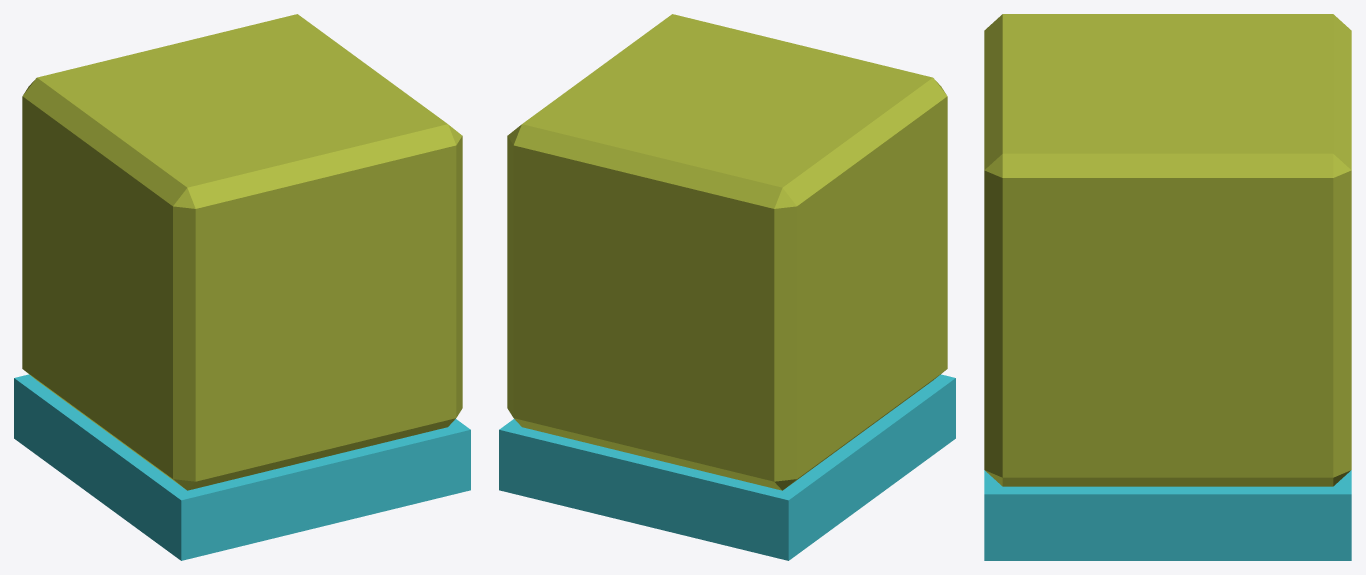
The model's file is wall.fbx.
3 renders of one model, left to right at view 1: azimuth 30°, elevation 25°; view 2: azimuth 150°, elevation 25°; view 3: azimuth 270°, elevation 25°, orthographic. The views are drawn at different scales.
Parts seen in each view (by area): view 1: pCube2, pCube1; view 2: pCube2, pCube1; view 3: pCube2, pCube1.
Boxes of the visible parts, <box> form: pCube2: <box>22,14,462,490</box>; pCube1: <box>14,374,470,560</box>; pCube2: <box>507,14,947,490</box>; pCube1: <box>499,374,955,560</box>; pCube2: <box>984,14,1351,486</box>; pCube1: <box>984,470,1351,560</box>.
Bounding box in the file's own units: 1 × 1.2 × 1.
